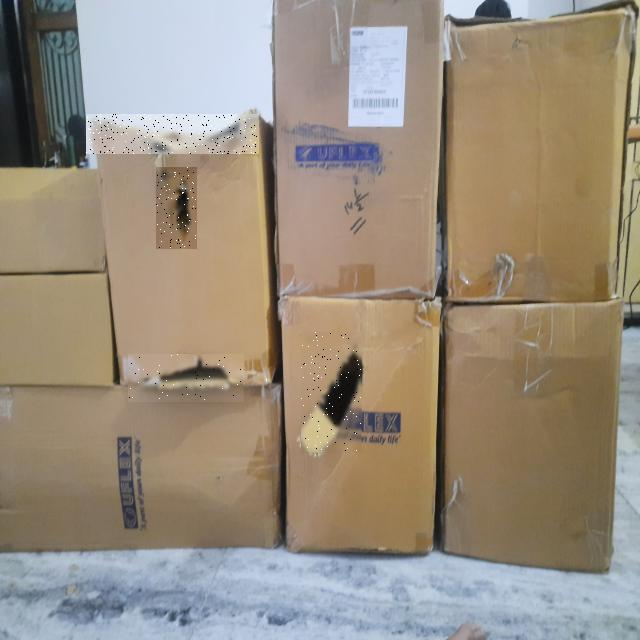leakage: (302, 332, 361, 451), (128, 354, 243, 400), (156, 168, 196, 248)
tear: (87, 114, 257, 154)
